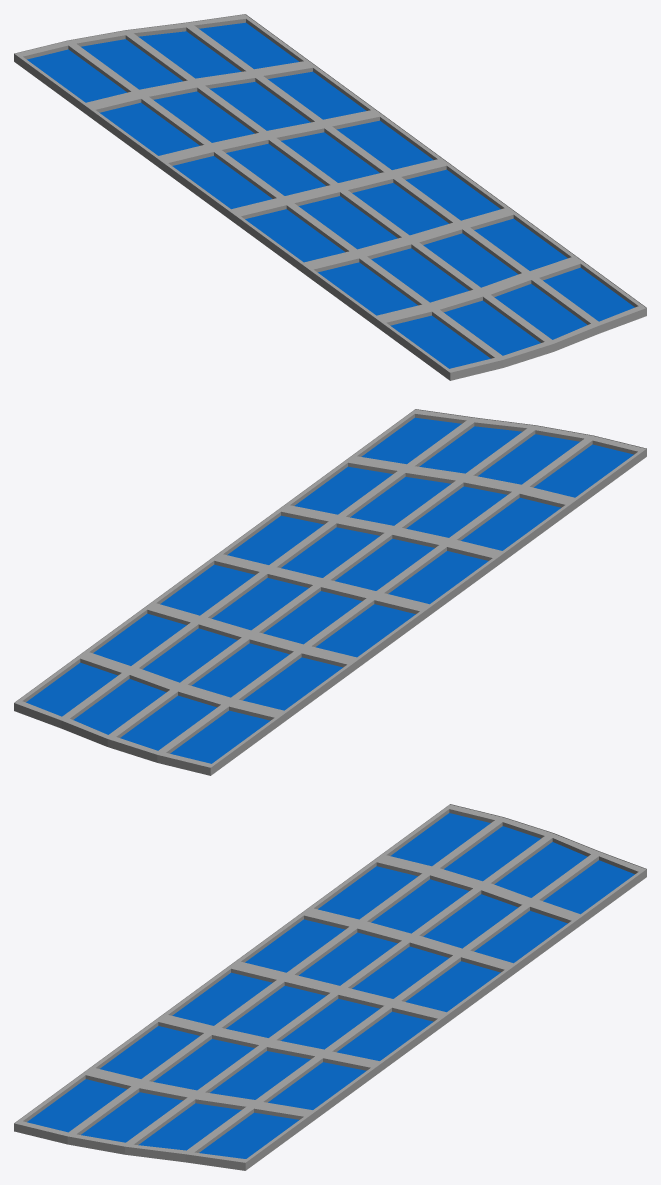
The model's file is solarP2.fbx.
3 renders of one model, top to bottom at view 1: azimuth 30°, elevation 25°; view 2: azimuth 150°, elevation 25°; view 3: azimuth 330°, elevation 25°, orthographic.
Visible parts, largest first — view 1: pCube2; view 2: pCube2; view 3: pCube2.
Boxes of the visible parts, x1,y1,x2,y2 form: pCube2: (14, 14, 646, 380); pCube2: (14, 409, 646, 775); pCube2: (14, 804, 646, 1170).
Size of the model in its own units: 4.1 by 0.1487 by 14.45.
